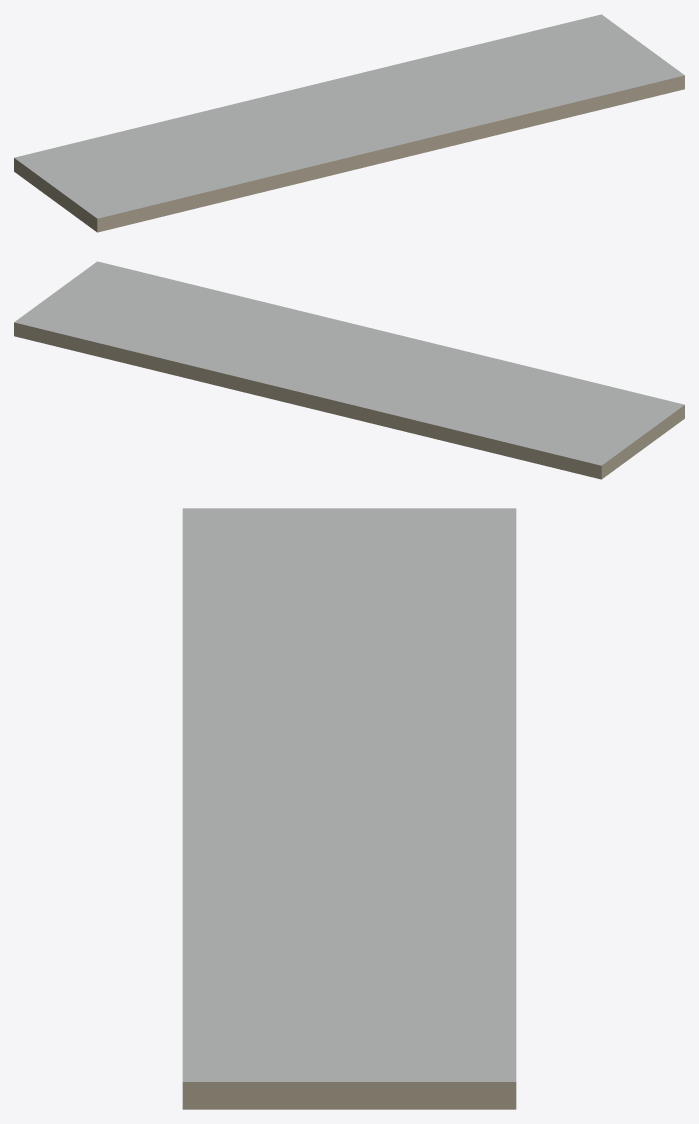
File: StructureFondation.fbx
The picture shows the model from 3 angles, top to bottom: view 1: azimuth 30°, elevation 25°; view 2: azimuth 150°, elevation 25°; view 3: azimuth 270°, elevation 25°; orthographic projection. The views are drawn at different scales.
Visible parts, largest first — view 1: Sol Radier [1206619], Sol Radier [495352]; view 2: Sol Radier [1206619], Sol Radier [495352]; view 3: Sol Radier [1206619], Sol Radier [495352].
Part boxes in pixels (box(x1,y1,x2,y2)): Sol Radier [1206619]: box(168, 14, 684, 194); Sol Radier [495352]: box(14, 120, 251, 232); Sol Radier [1206619]: box(14, 261, 530, 441); Sol Radier [495352]: box(447, 367, 684, 479); Sol Radier [1206619]: box(182, 659, 516, 1109); Sol Radier [495352]: box(182, 508, 516, 658).
Bounding box in the file's own units: 961 × 21.65 × 236.
